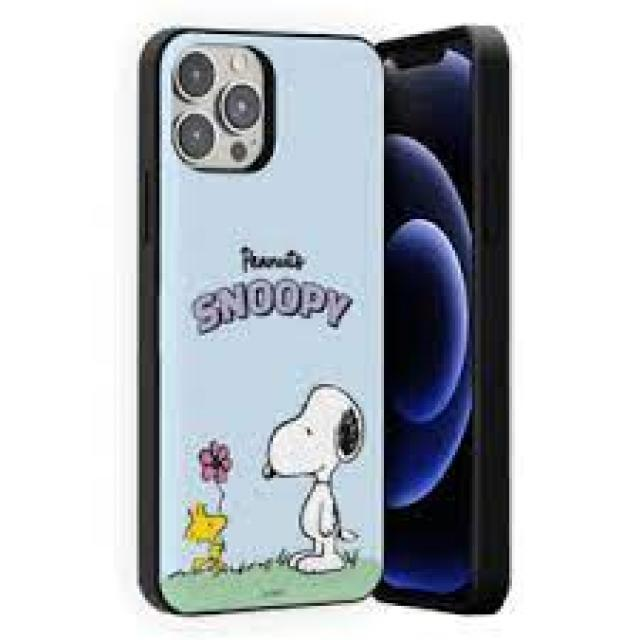Mobile: (106, 18, 403, 616), (360, 12, 547, 624)
